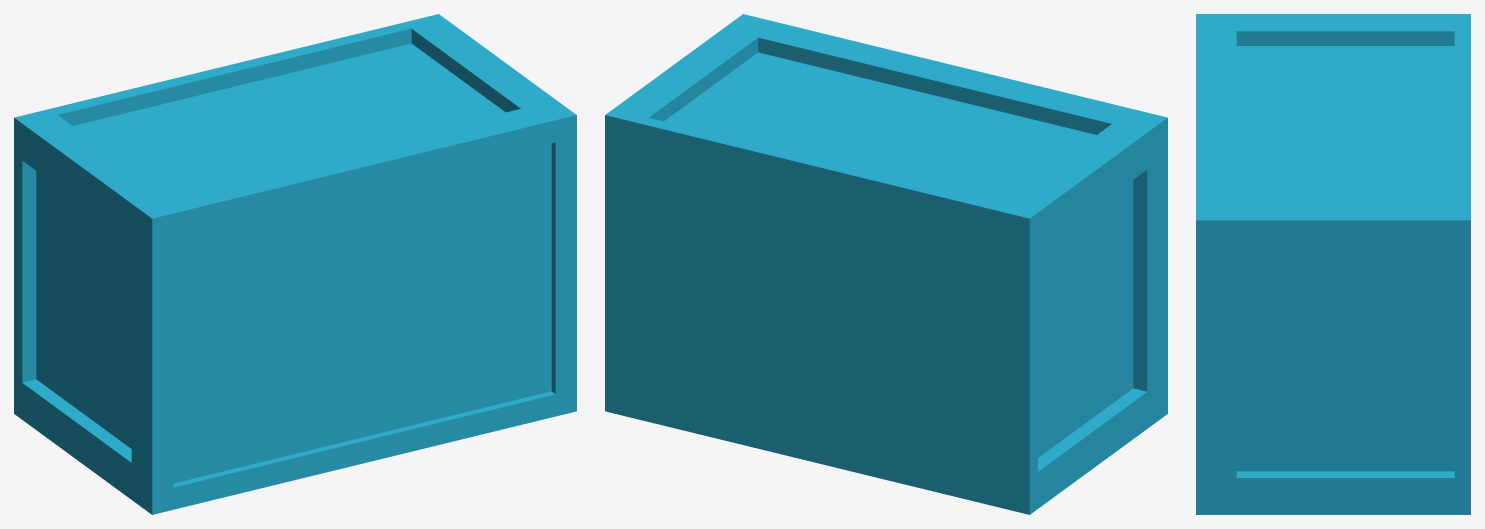
File: box_closed.dae
3 views of the same model, side by side, from view 1: azimuth 30°, elevation 25°; view 2: azimuth 150°, elevation 25°; view 3: azimuth 270°, elevation 25° (orthographic).
Visible parts, largest first — view 1: coords_ME_ID35_MA_Box, coords_ME_ID3_MA_Box, coords_ME_ID23_MA_Box, coords_ME_ID11_MA_Box; view 2: coords_ME_ID3_MA_Box, coords_ME_ID23_MA_Box, coords_ME_ID11_MA_Box; view 3: coords_ME_ID3_MA_Box, coords_ME_ID29_MA_Box, coords_ME_ID23_MA_Box.
Part boxes in pixels (x1,y1,x2,y2): coords_ME_ID35_MA_Box: (173, 142, 555, 487); coords_ME_ID3_MA_Box: (14, 14, 576, 514); coords_ME_ID23_MA_Box: (58, 28, 520, 194); coords_ME_ID11_MA_Box: (22, 161, 131, 462); coords_ME_ID3_MA_Box: (605, 14, 1167, 514); coords_ME_ID23_MA_Box: (649, 37, 1111, 203); coords_ME_ID11_MA_Box: (1038, 170, 1147, 471); coords_ME_ID3_MA_Box: (1196, 14, 1470, 514); coords_ME_ID29_MA_Box: (1236, 257, 1454, 477); coords_ME_ID23_MA_Box: (1236, 31, 1454, 202).
Bounding box in the file's own units: 5.4 × 3.6 × 3.04.
